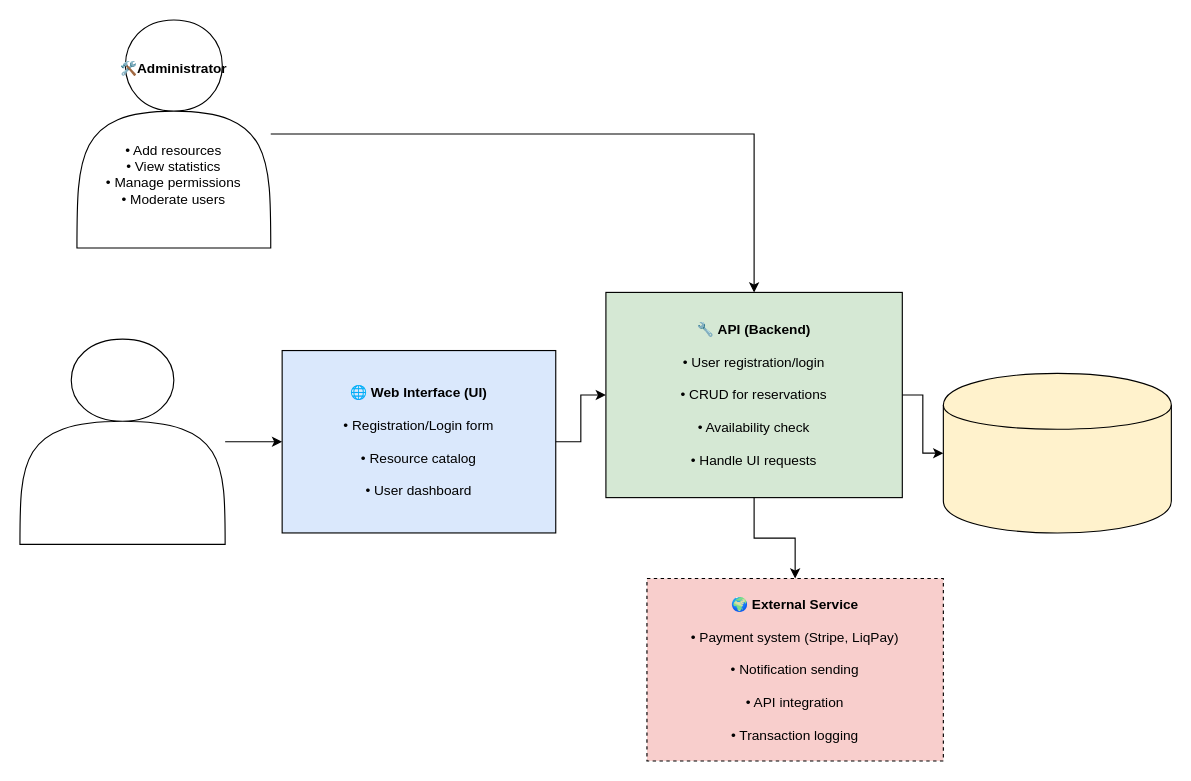
Image size: 1191x781. Some labels were removed from this diagram. Each missing label, with the centre of its shape:
"👤 User • View resources • Create reservations • View/cancel reservations" goes at point (122, 441).
"🗄️ Database • Users table • Resources table • Reservations table • Action logs" goes at point (1056, 452).
